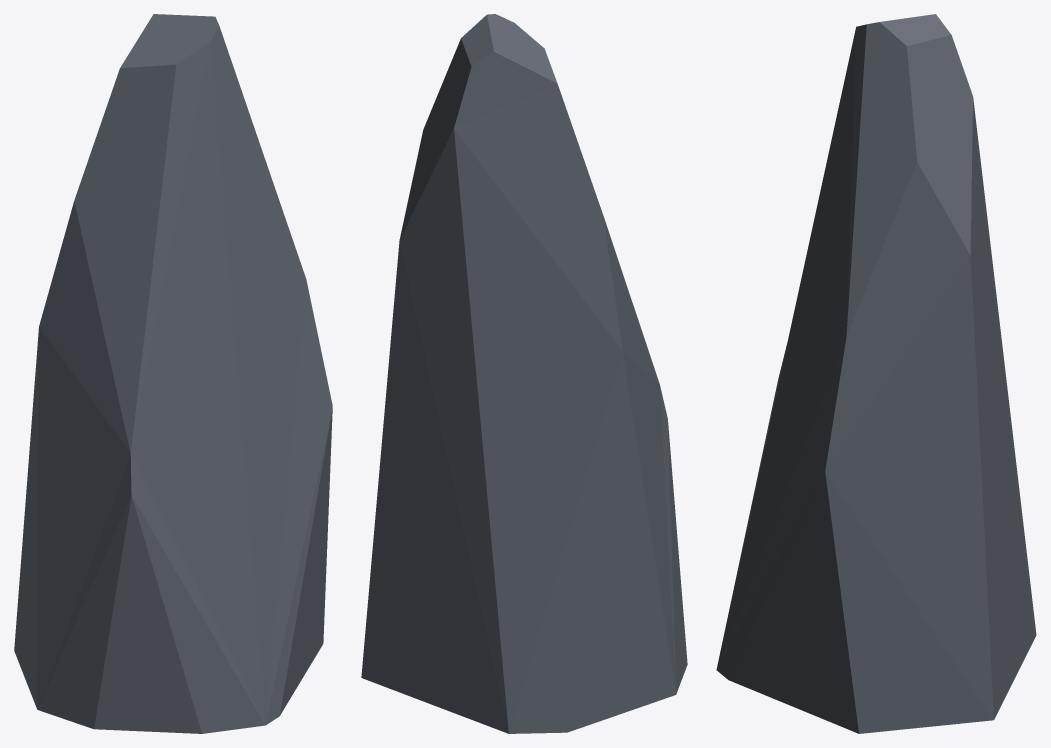
Rendered from Rock_Sharp_m_08.fbx.
3 renders of one model, left to right at view 1: azimuth 30°, elevation 25°; view 2: azimuth 150°, elevation 25°; view 3: azimuth 270°, elevation 25°, orthographic. The views are drawn at different scales.
Parts seen in each view (by area): view 1: Rock_Sharp_m_08; view 2: Rock_Sharp_m_08; view 3: Rock_Sharp_m_08.
Part boxes in pixels (box(x1,y1,x2,y2)): Rock_Sharp_m_08: box(14, 14, 332, 733); Rock_Sharp_m_08: box(361, 14, 687, 733); Rock_Sharp_m_08: box(716, 14, 1036, 733).
Size of the model in its own units: 56.71 by 124 by 54.11.
